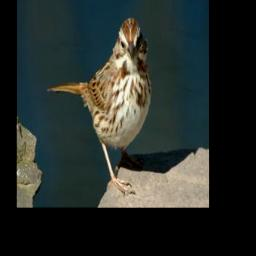Sparrow: (46, 16, 153, 193)
